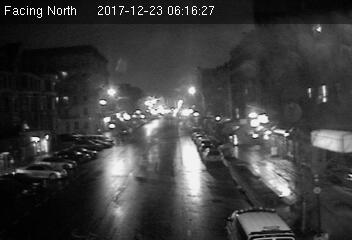car: (202, 147, 222, 162)
police: (224, 205, 301, 240)
